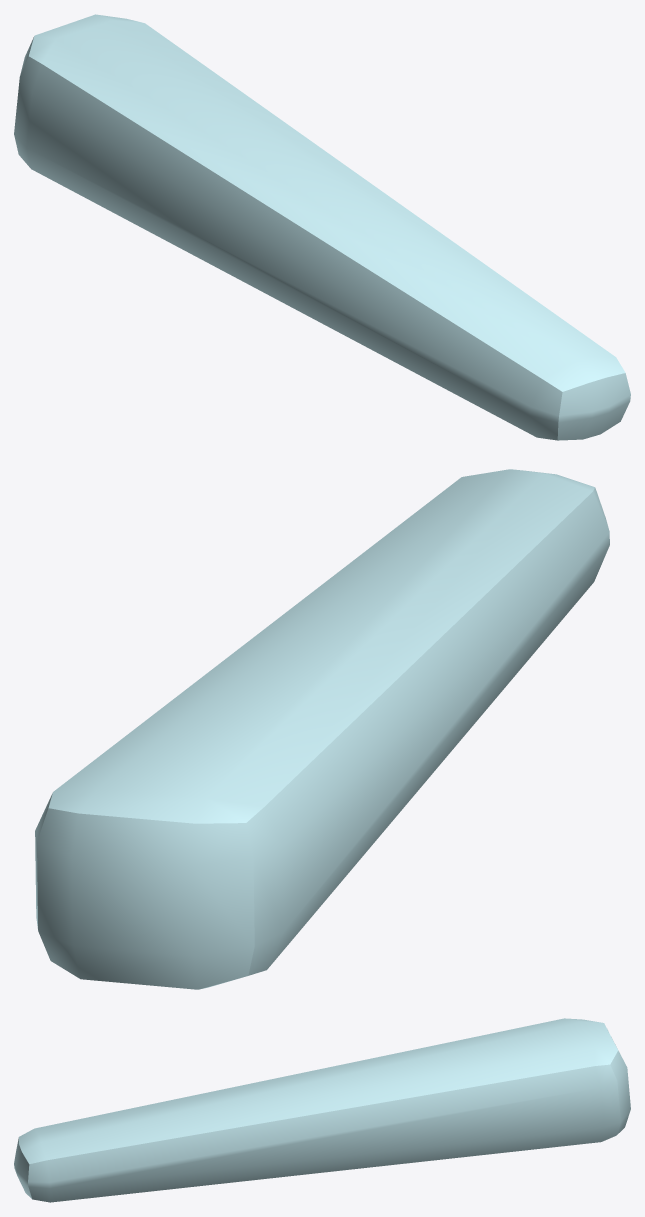
Rendered from Fries01.fbx.
The picture shows the model from 3 angles, top to bottom: view 1: azimuth 30°, elevation 25°; view 2: azimuth 150°, elevation 25°; view 3: azimuth 270°, elevation 25°; orthographic projection. The views are drawn at different scales.
Visible parts, largest first — view 1: Fries01; view 2: Fries01; view 3: Fries01.
Part boxes in pixels (<box>): Fries01: <box>14,14,630,440</box>; Fries01: <box>35,469,609,989</box>; Fries01: <box>14,1018,630,1202</box>.
Bounding box in the file's own units: 0.0334 × 0.0214 × 0.1008.
